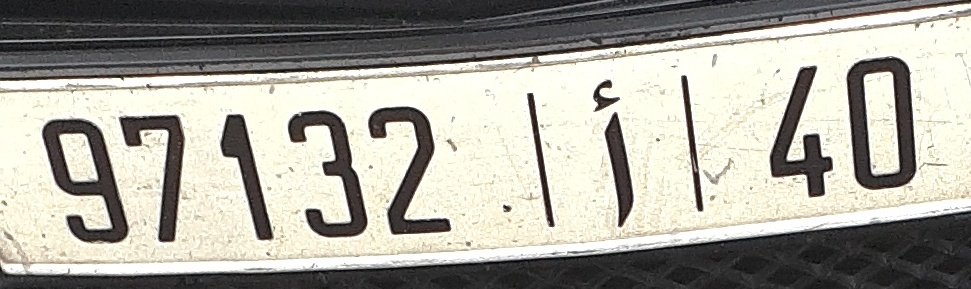0: (846, 55, 926, 193)
1: (213, 112, 279, 244)
2: (366, 103, 458, 236)
3: (286, 107, 373, 240)
4: (765, 61, 843, 201)
7: (117, 111, 191, 247)
9: (39, 112, 129, 246)
a: (587, 76, 645, 232)
